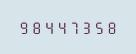eight: (30, 20, 42, 34), (108, 20, 120, 34)
five: (95, 20, 107, 34)
four: (43, 20, 55, 34), (56, 20, 68, 34)
nine: (17, 20, 29, 34)
seven: (69, 20, 81, 34)
three: (82, 20, 94, 34)
